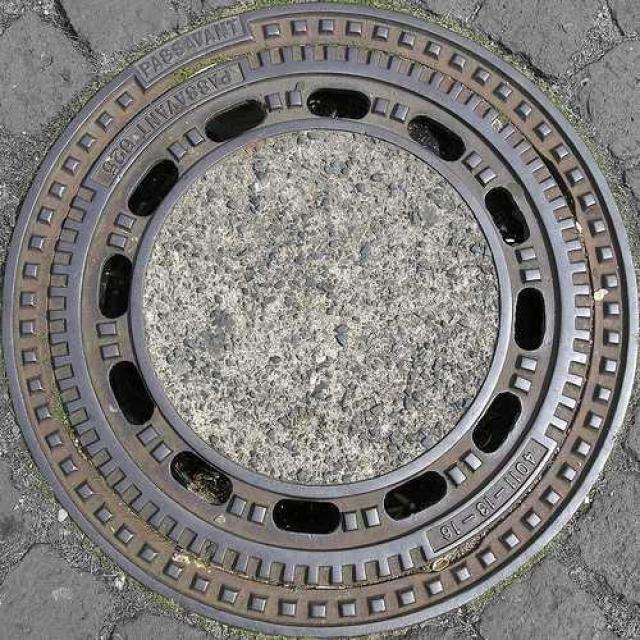manhole: (4, 4, 638, 634)
